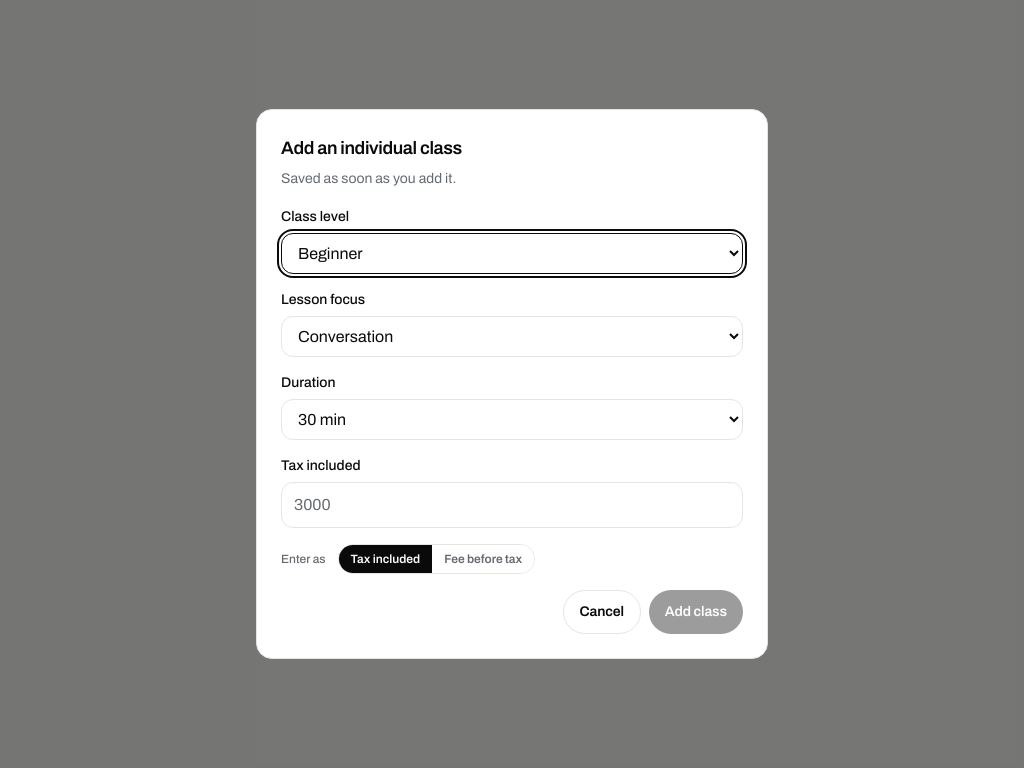
Test: TeacherLessonAddModal › stays open and says why when the server refuses
In the field labelled "Tax included": (512, 505) [281,482,743,528], type "5000"
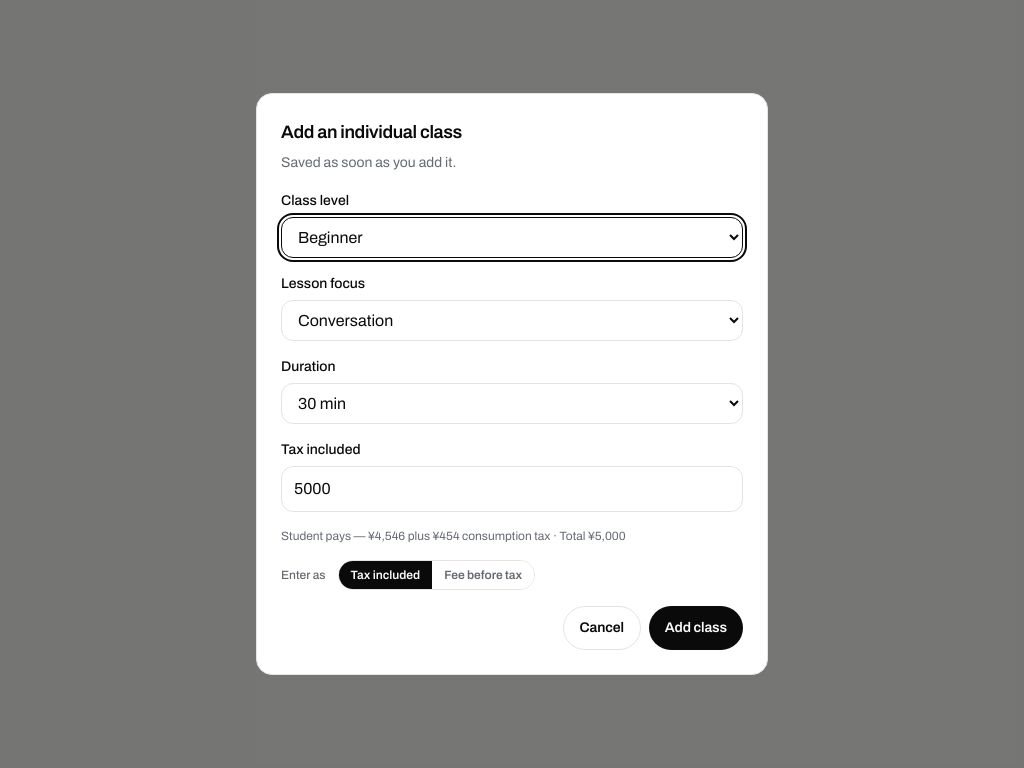
Click the button "Add class": (696, 628) [649,606,743,650]
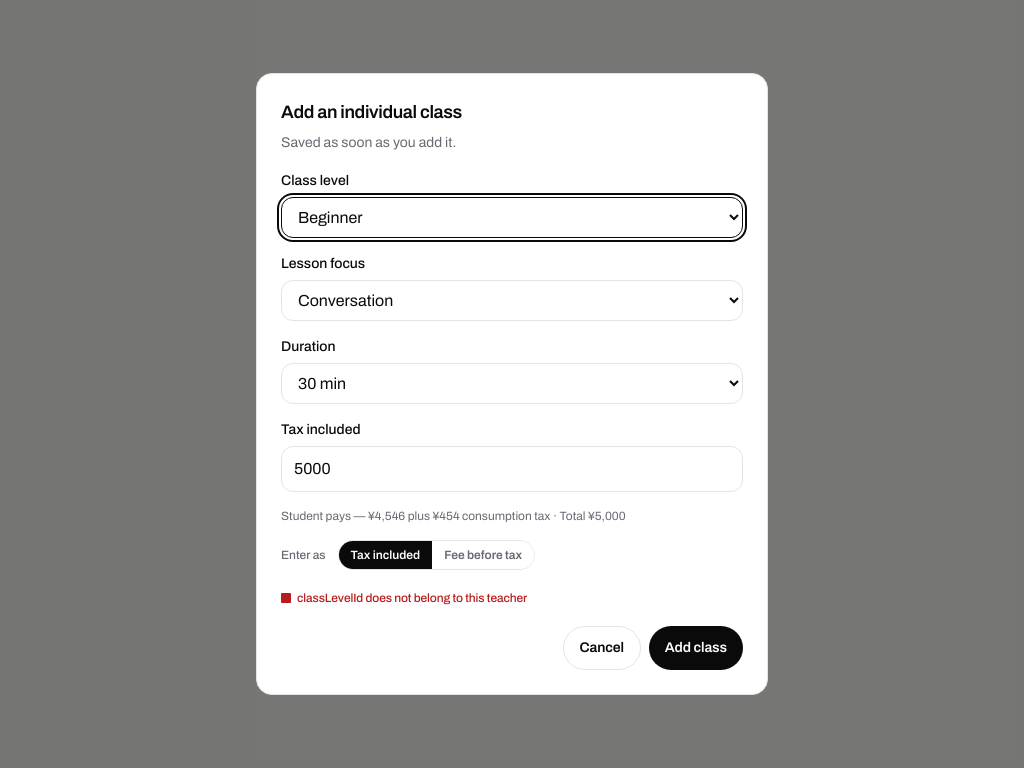
Check: the text "classLevelId does not belong to this teacher" is shown, box [281,590,527,606]
